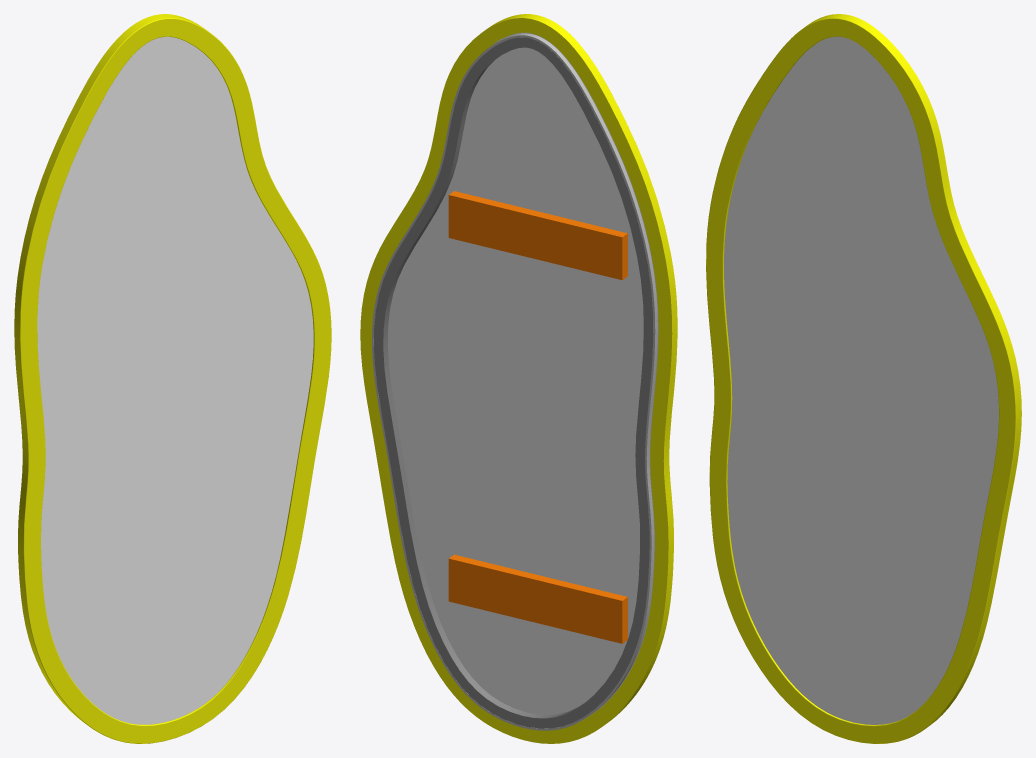
Rendered from 3D Сборка 1.obj.
3 renders of one model, left to right at view 1: azimuth 30°, elevation 25°; view 2: azimuth 150°, elevation 25°; view 3: azimuth 330°, elevation 25°, orthographic.
Size of the model in its own units: 0.9873 by 2.19 by 0.052.
